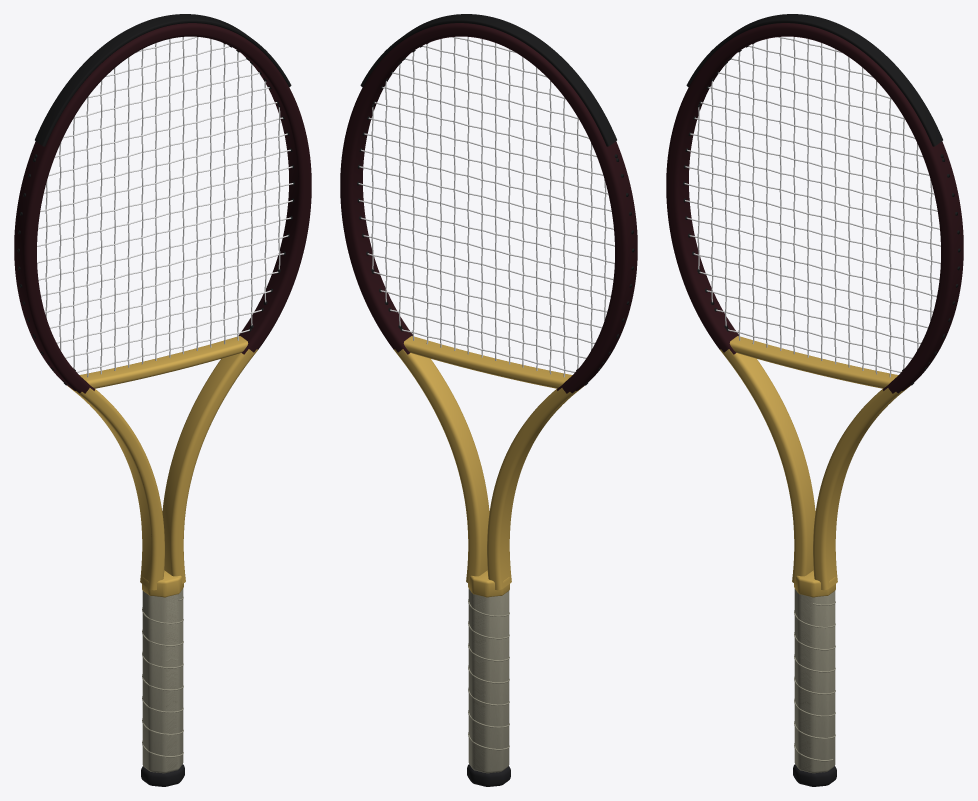
The model's file is head-prestige-mp-2023.glb.
The picture shows the model from 3 angles, left to right: view 1: azimuth 30°, elevation 25°; view 2: azimuth 150°, elevation 25°; view 3: azimuth 330°, elevation 25°; orthographic projection.
Visible parts, largest first — view 1: Frame, Strings, Handle, Bumper, Yoke, GripSeam, Collar, ButtCap; view 2: Frame, Strings, Handle, Bumper, Yoke, GripSeam, Collar, ButtCap; view 3: Frame, Strings, Handle, Bumper, Yoke, GripSeam, Collar, ButtCap.
Part boxes in pixels (<box>): Frame: <box>14,23,311,590</box>; Strings: <box>37,36,293,377</box>; Handle: <box>142,589,183,773</box>; Bumper: <box>35,14,291,146</box>; Yoke: <box>79,336,248,388</box>; GripSeam: <box>142,597,183,757</box>; Collar: <box>142,570,183,597</box>; ButtCap: <box>141,764,184,786</box>; Frame: <box>340,23,637,590</box>; Strings: <box>358,36,614,377</box>; Handle: <box>468,589,509,773</box>; Bumper: <box>360,14,616,146</box>; Yoke: <box>403,336,572,388</box>; GripSeam: <box>468,599,509,750</box>; Collar: <box>468,570,509,597</box>; ButtCap: <box>467,764,510,786</box>; Frame: <box>666,23,963,590</box>; Strings: <box>684,36,940,377</box>; Handle: <box>794,589,835,773</box>; Bumper: <box>686,14,942,146</box>; Yoke: <box>729,336,898,388</box>; GripSeam: <box>794,601,835,761</box>; Collar: <box>794,570,835,597</box>; ButtCap: <box>793,764,836,786</box>.
Bounding box in the file's own units: 0.2746 × 0.6886 × 0.0327.
Materials: 6 (1 with a texture image).
